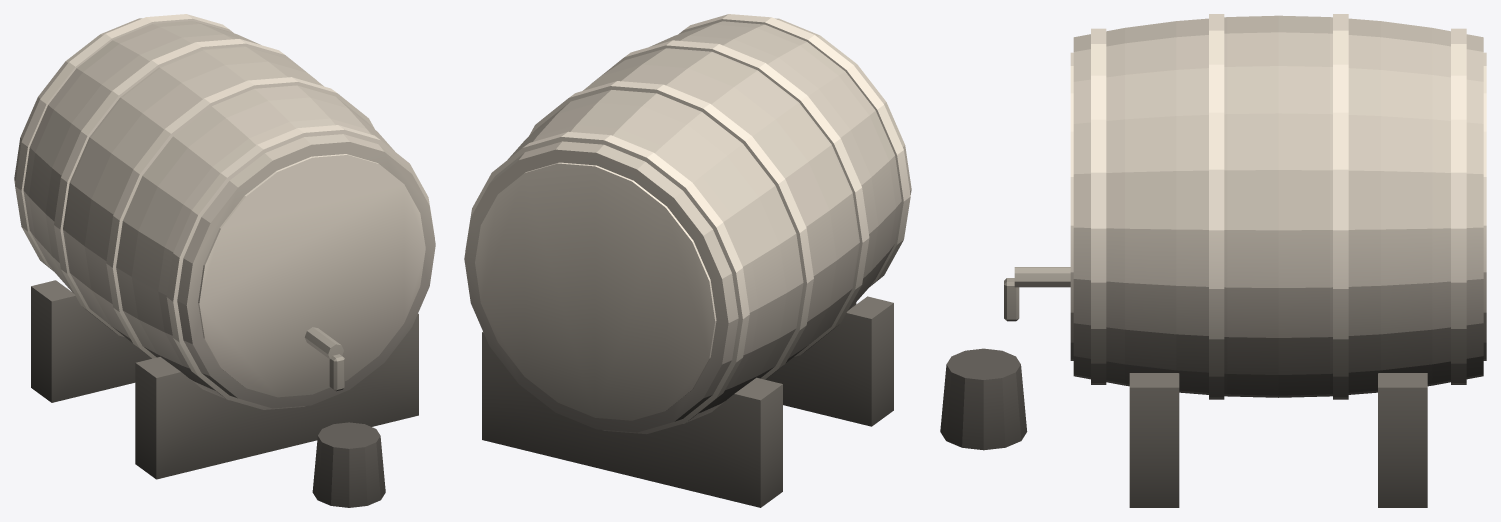
File: SM_VK_Prop_AleCask.fbx
3 renders of one model, left to right at view 1: azimuth 30°, elevation 25°; view 2: azimuth 150°, elevation 25°; view 3: azimuth 270°, elevation 25°, orthographic. The views are drawn at different scales.
Visible parts, largest first — view 1: SM_VK_Prop_AleCask.001; view 2: SM_VK_Prop_AleCask.001; view 3: SM_VK_Prop_AleCask.001.
Boxes of the visible parts, <box> form: SM_VK_Prop_AleCask.001: <box>14,14,435,507</box>; SM_VK_Prop_AleCask.001: <box>464,14,911,507</box>; SM_VK_Prop_AleCask.001: <box>940,14,1486,507</box>.
Bounding box in the file's own units: 1.25 × 1.43 × 1.76.
